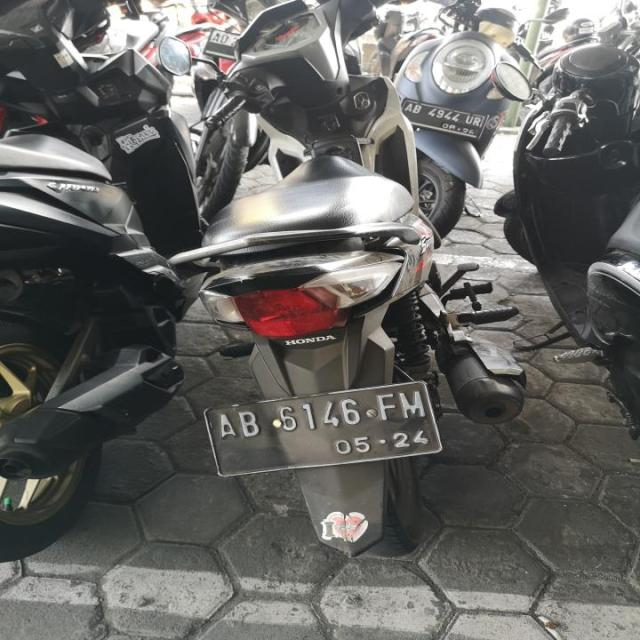License Plate: (202, 378, 445, 478), (399, 98, 489, 141)
